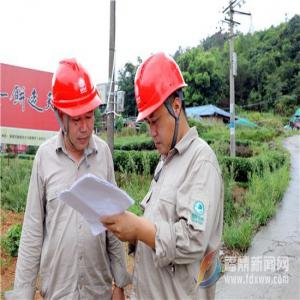red: (134, 49, 188, 154), (50, 54, 100, 155)
